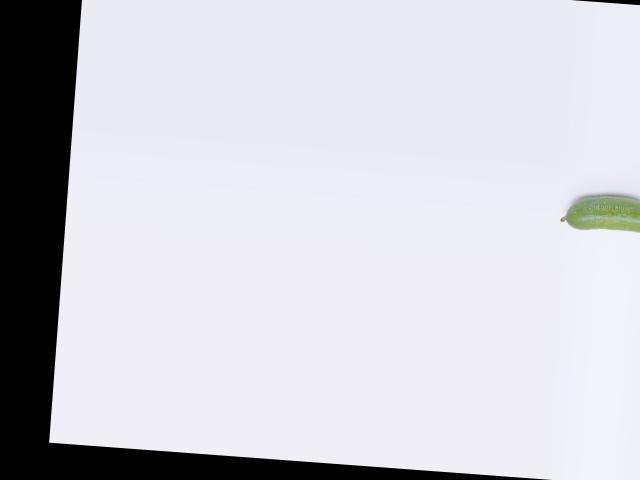cucumber: (560, 191, 640, 234)
